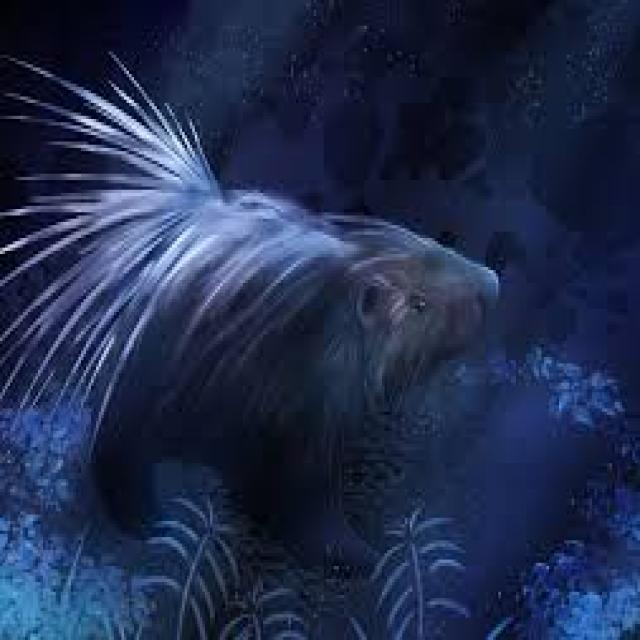Porcupine: (17, 148, 500, 530)
